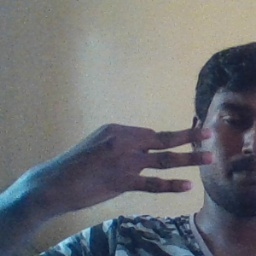K: (65, 122, 215, 200)
